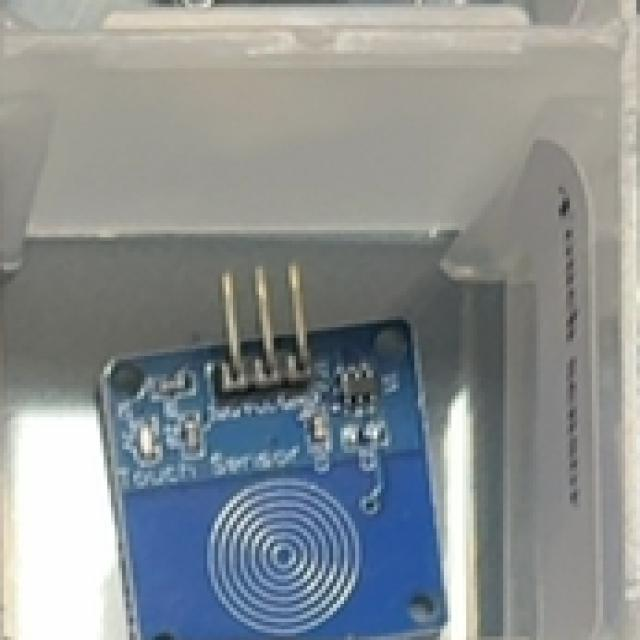Touch Sensor: (92, 257, 444, 640)
